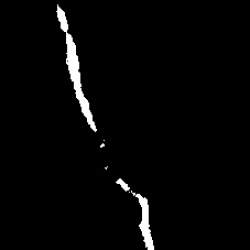crack: (57, 8, 98, 133), (118, 179, 154, 249), (101, 143, 106, 148), (106, 166, 109, 171)
